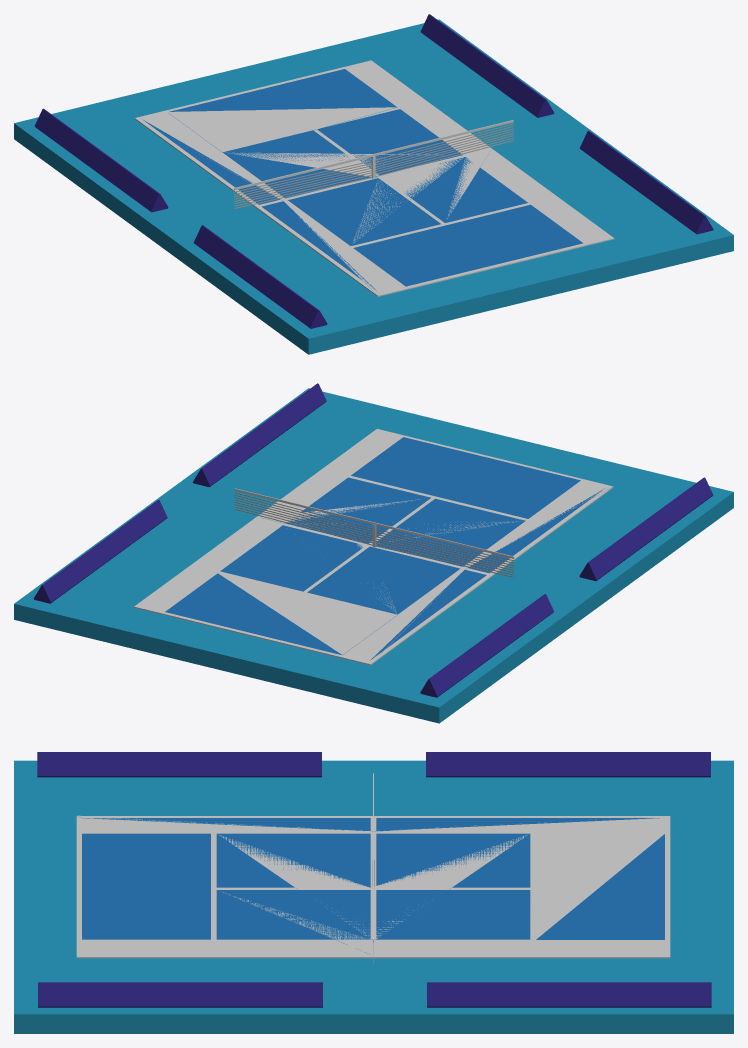
The model's file is tennis-court.zfix-v3.lod2.glb.
The picture shows the model from 3 angles, top to bottom: view 1: azimuth 30°, elevation 25°; view 2: azimuth 150°, elevation 25°; view 3: azimuth 270°, elevation 25°; orthographic projection. The views are drawn at different scales.
Visible parts, largest first — view 1: GeoSphere001_yellow_0; view 2: GeoSphere001_yellow_0; view 3: GeoSphere001_yellow_0.
Part boxes in pixels (bbox=[...]): GeoSphere001_yellow_0: bbox=[14, 14, 733, 354]; GeoSphere001_yellow_0: bbox=[14, 383, 733, 723]; GeoSphere001_yellow_0: bbox=[14, 752, 733, 1033].
Bounding box in the file's own units: 25.01 × 2.31 × 30.
